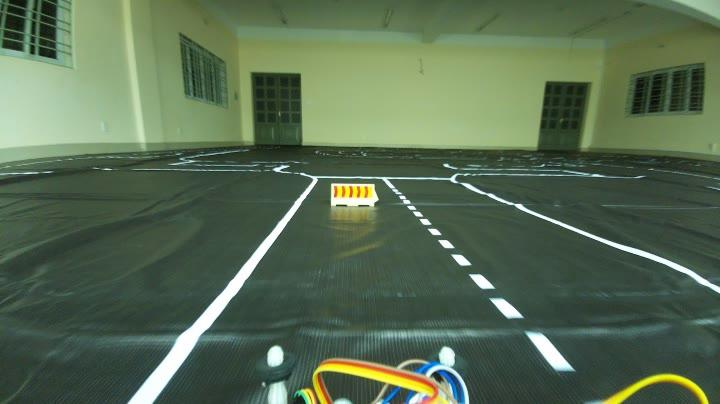roadblock: (329, 179, 380, 210)
